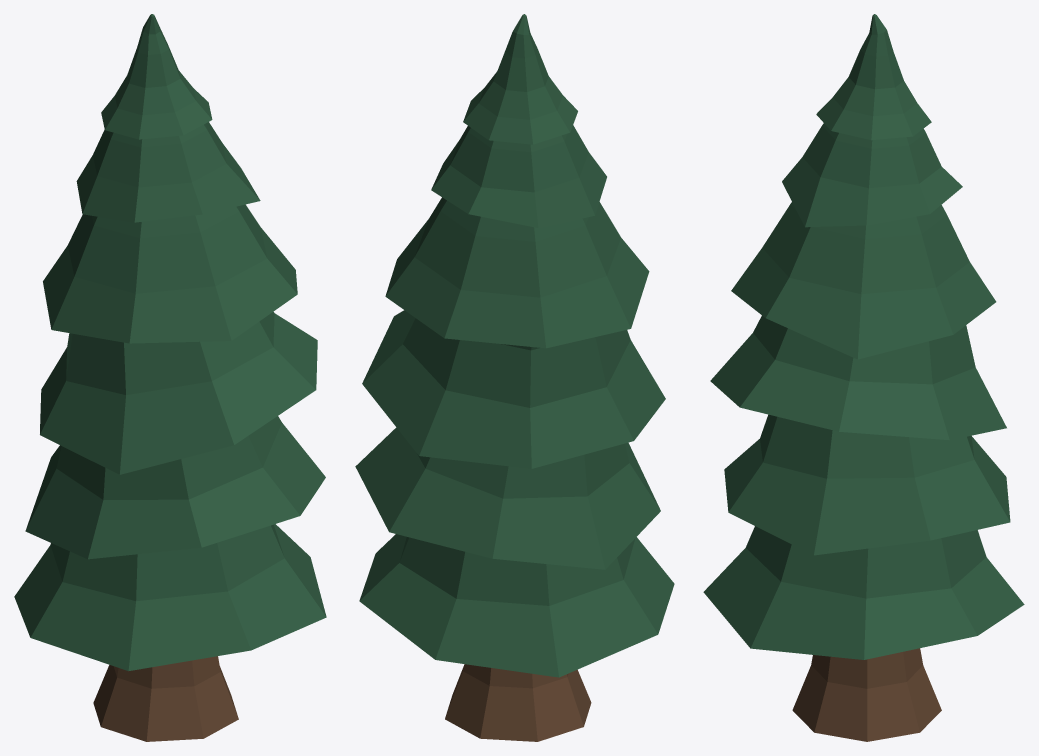
File: pine_tree.fbx
The picture shows the model from 3 angles, left to right: view 1: azimuth 30°, elevation 25°; view 2: azimuth 150°, elevation 25°; view 3: azimuth 270°, elevation 25°; orthographic projection.
Parts seen in each view (by area): view 1: Cylinder.001, Cylinder.003, Cylinder.004, Cylinder.002, Cylinder.005, Cylinder, Cylinder.006; view 2: Cylinder.003, Cylinder.001, Cylinder.004, Cylinder.002, Cylinder.005, Cylinder, Cylinder.006; view 3: Cylinder.001, Cylinder.002, Cylinder.004, Cylinder.003, Cylinder.005, Cylinder, Cylinder.006.
Part boxes in pixels (bbox=[...]): Cylinder.001: bbox=[14, 524, 326, 671]; Cylinder.003: bbox=[40, 311, 317, 474]; Cylinder.004: bbox=[43, 204, 297, 343]; Cylinder.002: bbox=[25, 416, 325, 559]; Cylinder.005: bbox=[76, 122, 260, 222]; Cylinder: bbox=[93, 656, 238, 741]; Cylinder.006: bbox=[101, 14, 212, 139]; Cylinder.003: bbox=[362, 310, 665, 468]; Cylinder.001: bbox=[359, 534, 674, 677]; Cylinder.004: bbox=[385, 197, 649, 348]; Cylinder.002: bbox=[355, 427, 660, 569]; Cylinder.005: bbox=[431, 125, 606, 227]; Cylinder: bbox=[445, 664, 591, 741]; Cylinder.006: bbox=[463, 14, 577, 144]; Cylinder.001: bbox=[703, 526, 1024, 659]; Cylinder.002: bbox=[724, 414, 1010, 555]; Cylinder.004: bbox=[731, 202, 996, 359]; Cylinder.003: bbox=[710, 315, 1006, 440]; Cylinder.005: bbox=[782, 123, 962, 227]; Cylinder: bbox=[792, 648, 941, 741]; Cylinder.006: bbox=[816, 14, 931, 140].
Bounding box in the file's own units: 430 × 1020 × 430.
